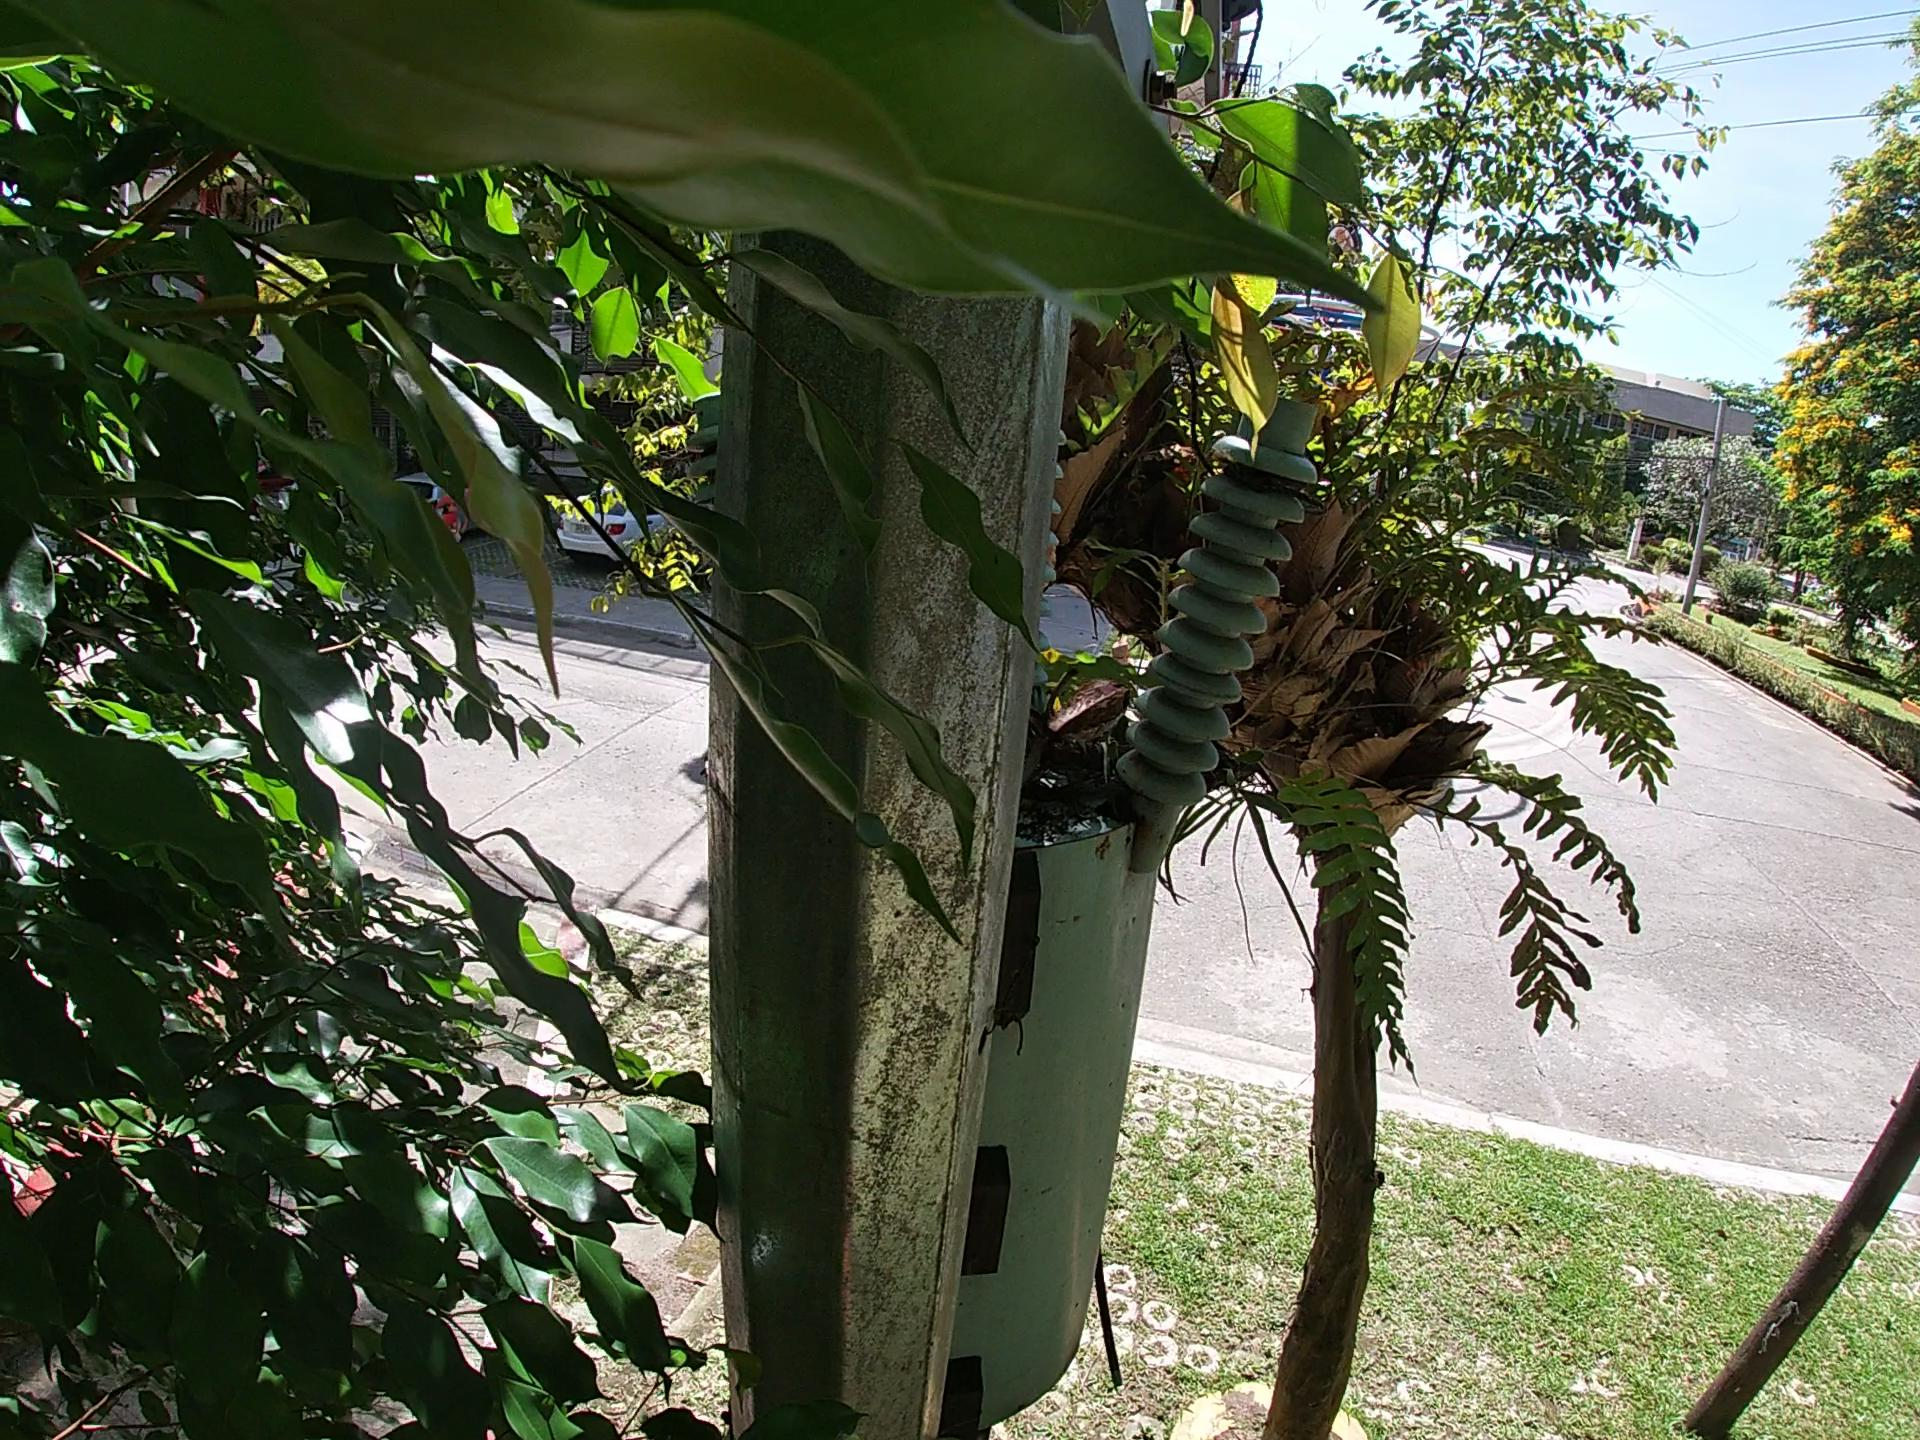branch with leaves: (962, 537, 1185, 750)
mahogany fruit: (972, 551, 1141, 682), (986, 570, 1141, 682)
tree branch: (877, 673, 1144, 914)
